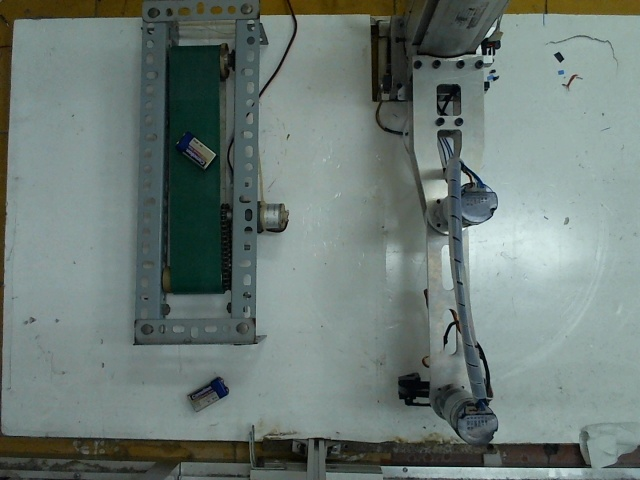battery: (185, 374, 228, 414), (175, 127, 213, 167)
